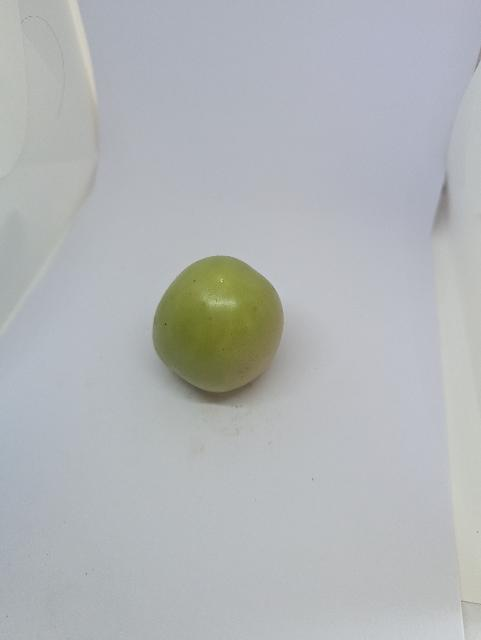green: (144, 244, 289, 409)
